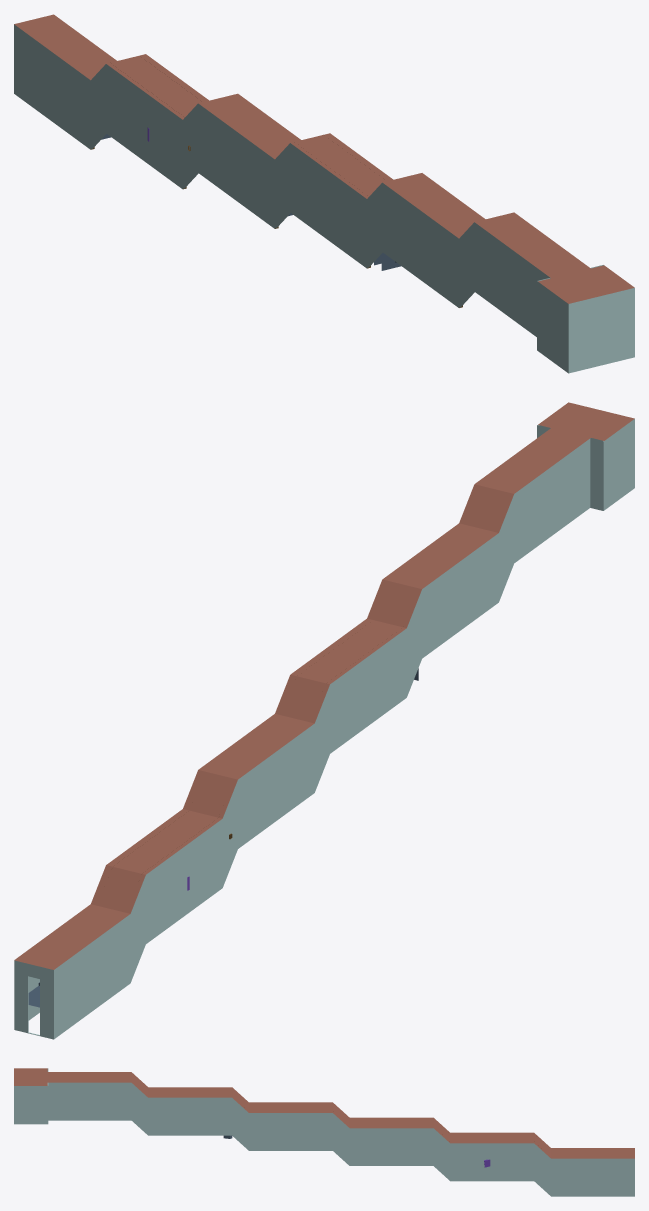
Rendered from nvl_5_probando (1).fbx.
3 renders of one model, top to bottom at view 1: azimuth 30°, elevation 25°; view 2: azimuth 150°, elevation 25°; view 3: azimuth 270°, elevation 25°, orthographic. The views are drawn at different scales.
Visible parts, largest first — view 1: Pared, Techo; view 2: Pared, Techo; view 3: Pared, Techo.
Boxes of the visible parts, box(x1,y1,x2,y2) form: Pared: box(14, 24, 634, 373); Techo: box(14, 14, 634, 303); Pared: box(14, 419, 634, 1039); Techo: box(14, 402, 634, 969); Pared: box(14, 1068, 634, 1196); Techo: box(14, 1068, 634, 1158).
Bounding box in the file's own units: 5 × 15 × 74.
